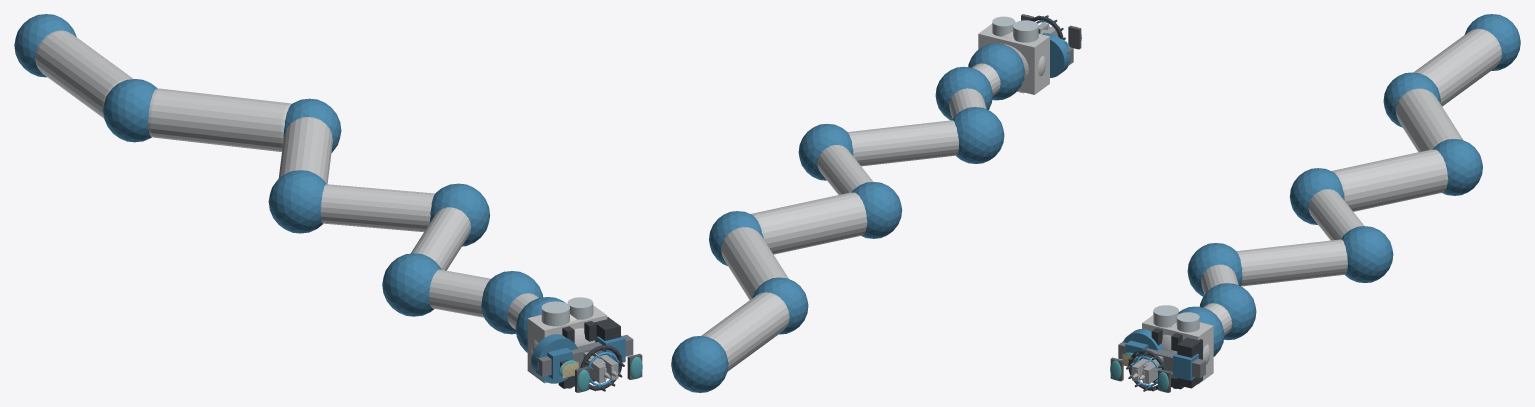
Rendered from dranmar_franka_hemostasis_assembly.glb.
3 views of the same model, side by side, from view 1: azimuth 30°, elevation 25°; view 2: azimuth 150°, elevation 25°; view 3: azimuth 330°, elevation 25° (orthographic). The views are drawn at different scales.
Visible parts, largest first — view 1: ArmLink_01, ArmLink_03, ArmLink_00, ArmJoint_03, ArmJoint_05, ArmLink_02, ArmJoint_01, ArmLink_04, ArmLink_05, ArmJoint_06, ArmJoint_04, ArmJoint_00 (+6 smaller); view 2: ArmLink_02, ArmLink_04, ArmLink_00, ArmLink_01, ArmJoint_00, ArmJoint_05, ArmJoint_03, Mount_HousingCore, ArmJoint_07, ArmLink_03, ArmJoint_04, ArmJoint_06 (+8 smaller); view 3: ArmLink_02, ArmLink_04, ArmLink_00, ArmLink_01, ArmJoint_04, ArmJoint_02, ArmJoint_06, ArmLink_03, ArmJoint_03, ArmJoint_05, ArmJoint_00, ArmJoint_01 (+10 smaller).
Part boxes in pixels (x1,y1,x2,y2): ArmLink_01: (148, 88, 291, 151); ArmLink_03: (320, 184, 434, 232); ArmLink_00: (35, 30, 132, 118); ArmJoint_03: (268, 170, 326, 233); ArmJoint_05: (382, 253, 441, 316); ArmLink_02: (278, 117, 332, 184); ArmJoint_01: (103, 79, 157, 142); ArmLink_04: (410, 207, 470, 270); ArmLink_05: (429, 269, 490, 317); ArmJoint_06: (481, 271, 542, 334); ArmJoint_04: (430, 183, 490, 246); ArmJoint_00: (14, 14, 76, 77); ArmLink_02: (750, 192, 867, 254); ArmLink_04: (848, 120, 958, 166); ArmLink_00: (701, 292, 789, 371); ArmLink_01: (721, 227, 788, 299); ArmJoint_00: (671, 336, 728, 392); ArmJoint_05: (952, 107, 1004, 163); ArmJoint_03: (851, 182, 902, 238); Mount_HousingCore: (978, 24, 1049, 94); ArmJoint_07: (968, 43, 1024, 100); ArmLink_03: (817, 145, 873, 194); ArmJoint_04: (798, 124, 853, 180); ArmJoint_06: (935, 66, 992, 120); ArmLink_02: (1331, 149, 1448, 211); ArmLink_04: (1237, 239, 1347, 286); ArmLink_00: (1413, 28, 1501, 106); ArmLink_01: (1395, 88, 1462, 152); ArmJoint_04: (1341, 226, 1393, 282); ArmJoint_02: (1432, 139, 1482, 195); ArmJoint_06: (1199, 283, 1256, 339); ArmLink_03: (1308, 189, 1364, 240); ArmJoint_03: (1289, 168, 1344, 224); ArmJoint_05: (1187, 243, 1242, 296); ArmJoint_00: (1464, 14, 1520, 70); ArmJoint_01: (1383, 72, 1440, 127).
Bounding box in the file's own units: 0.31 × 0.115 × 1.4.
